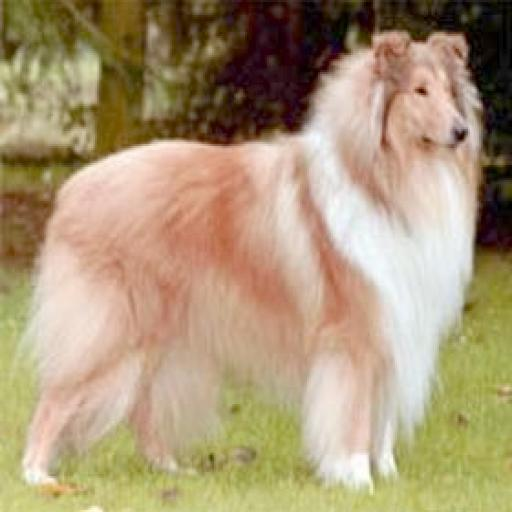dog_face: (361, 24, 478, 154)
